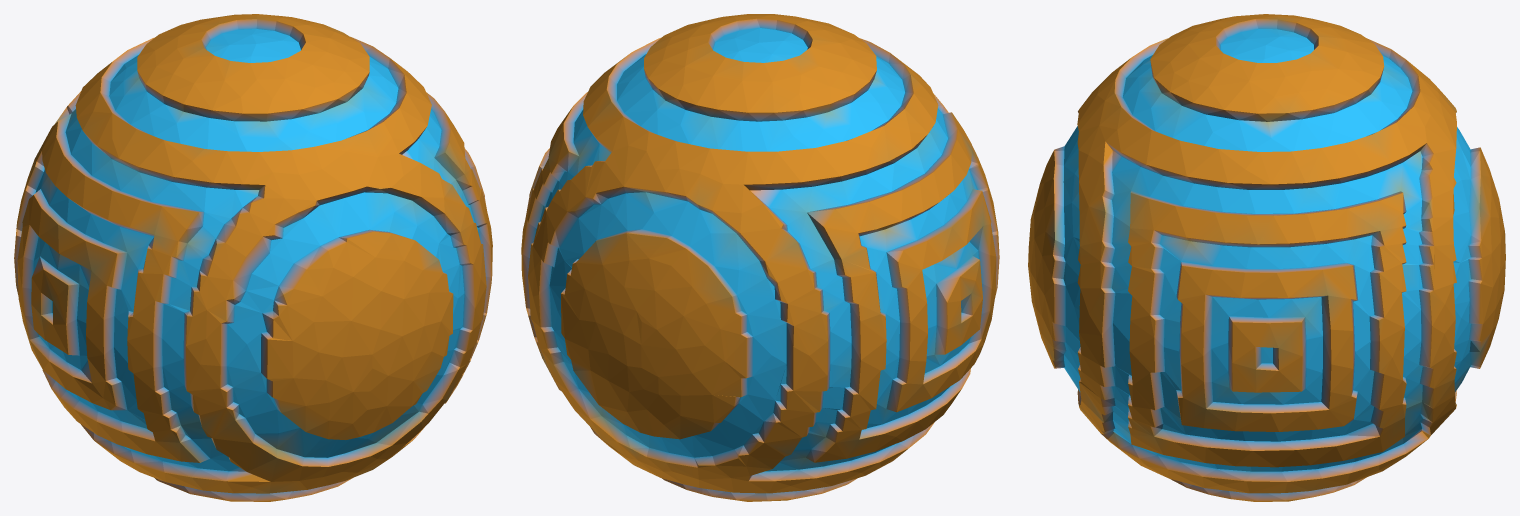
The picture shows the model from 3 angles, left to right: view 1: azimuth 30°, elevation 25°; view 2: azimuth 150°, elevation 25°; view 3: azimuth 270°, elevation 25°; orthographic projection.
Parts seen in each view (by area): view 1: 14, 13; view 2: 14, 13; view 3: 14, 13.
Boxes of the visible parts, x1,y1,x2,y2 form: 14: [14, 14, 492, 501]; 13: [33, 29, 478, 471]; 14: [521, 14, 999, 501]; 13: [535, 28, 978, 471]; 14: [1028, 14, 1505, 501]; 13: [1063, 29, 1470, 471].
Size of the model in its own units: 5029 by 5055 by 5033.
